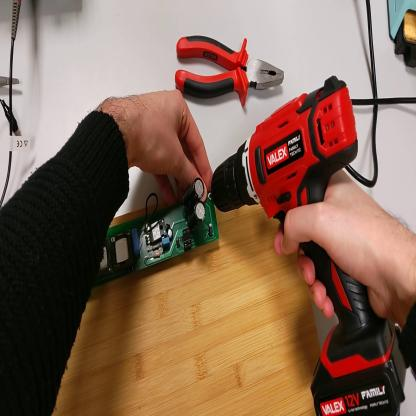electric screwdriver: (211, 77, 406, 416)
hand: (274, 175, 411, 325), (123, 90, 215, 205)
high voltage board: (94, 179, 220, 286)
oscilloscope probe tip: (2, 74, 20, 93)
pliers: (179, 40, 288, 98)
welder base: (387, 3, 416, 74)
working area: (53, 203, 321, 416)
